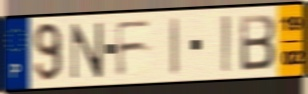9: (32, 20, 65, 85)
B: (238, 12, 278, 73)
F: (113, 18, 154, 79)
I: (221, 13, 233, 74), (169, 15, 180, 77)
N: (69, 20, 105, 81)
